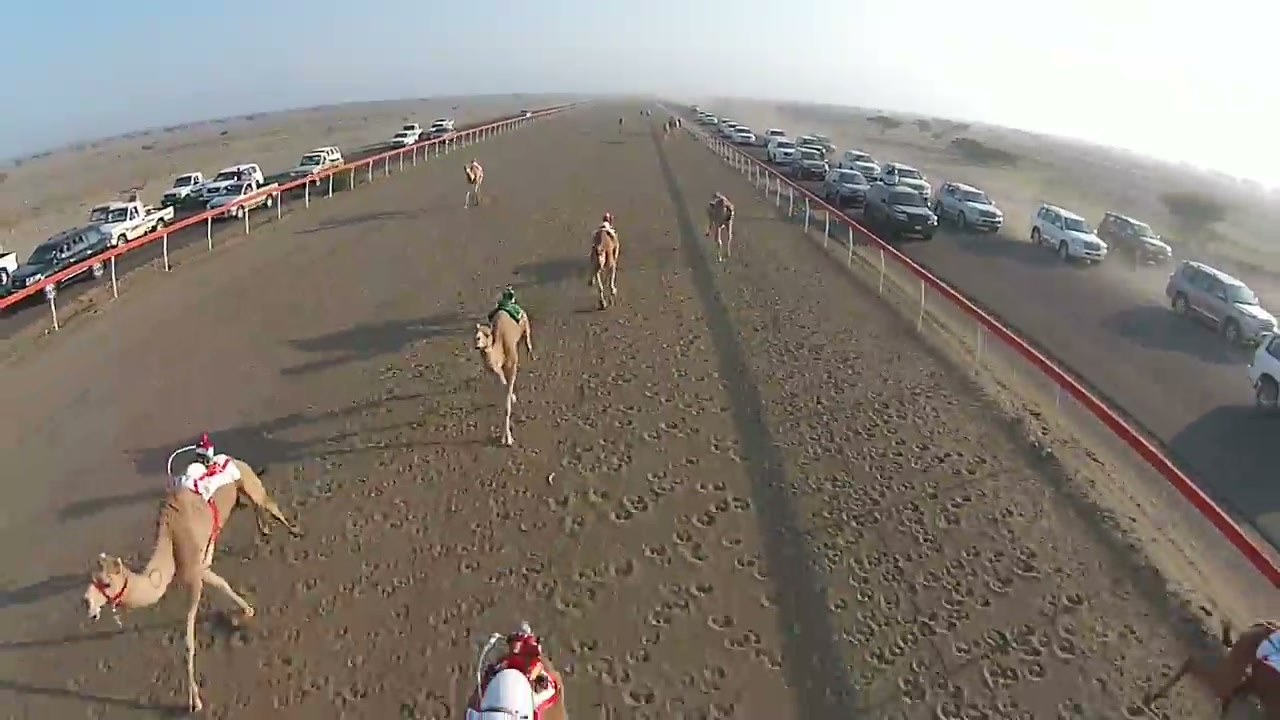animal_footprint: (229, 252, 1105, 719), (341, 239, 1178, 719), (460, 275, 1095, 717), (816, 481, 1122, 716), (541, 446, 790, 716), (628, 581, 780, 716), (839, 608, 944, 716), (551, 557, 639, 615), (609, 470, 685, 523), (560, 437, 633, 477), (573, 557, 638, 586), (400, 690, 453, 719), (583, 655, 632, 686), (553, 586, 596, 617), (646, 470, 685, 502), (611, 494, 654, 522), (733, 554, 769, 580), (605, 557, 639, 582), (677, 540, 710, 563), (623, 684, 657, 706), (642, 543, 672, 566), (709, 437, 739, 460), (566, 636, 600, 656), (559, 513, 587, 536), (624, 646, 651, 665), (707, 614, 735, 631), (695, 479, 727, 493), (673, 528, 695, 544), (498, 431, 513, 446), (610, 286, 617, 295)
